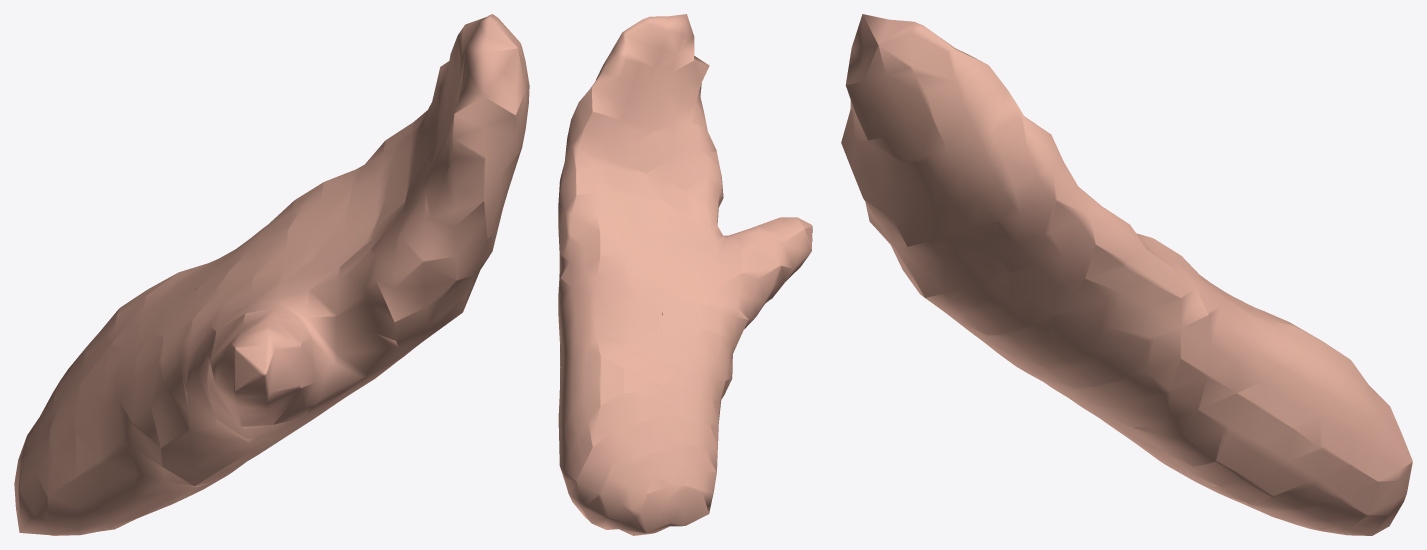
The model's file is right-hand.gltf.
The picture shows the model from 3 angles, left to right: view 1: azimuth 30°, elevation 25°; view 2: azimuth 150°, elevation 25°; view 3: azimuth 270°, elevation 25°; orthographic projection. The views are drawn at different scales.
Parts seen in each view (by area): view 1: Layer_1; view 2: Layer_1; view 3: Layer_1.
Boxes of the visible parts, bbox=[...] form: Layer_1: bbox=[14, 14, 529, 535]; Layer_1: bbox=[558, 14, 812, 535]; Layer_1: bbox=[841, 14, 1412, 535].
Size of the model in its own units: 11.71 by 19.83 by 17.21.
Materials: 1 (1 with a texture image).
